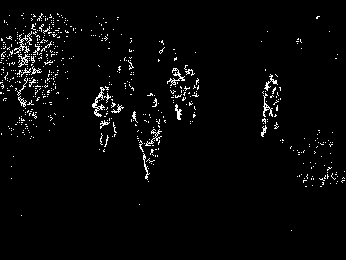person: (129, 92, 166, 183), (91, 86, 123, 152), (261, 73, 282, 137), (182, 65, 201, 123), (167, 66, 184, 121)
